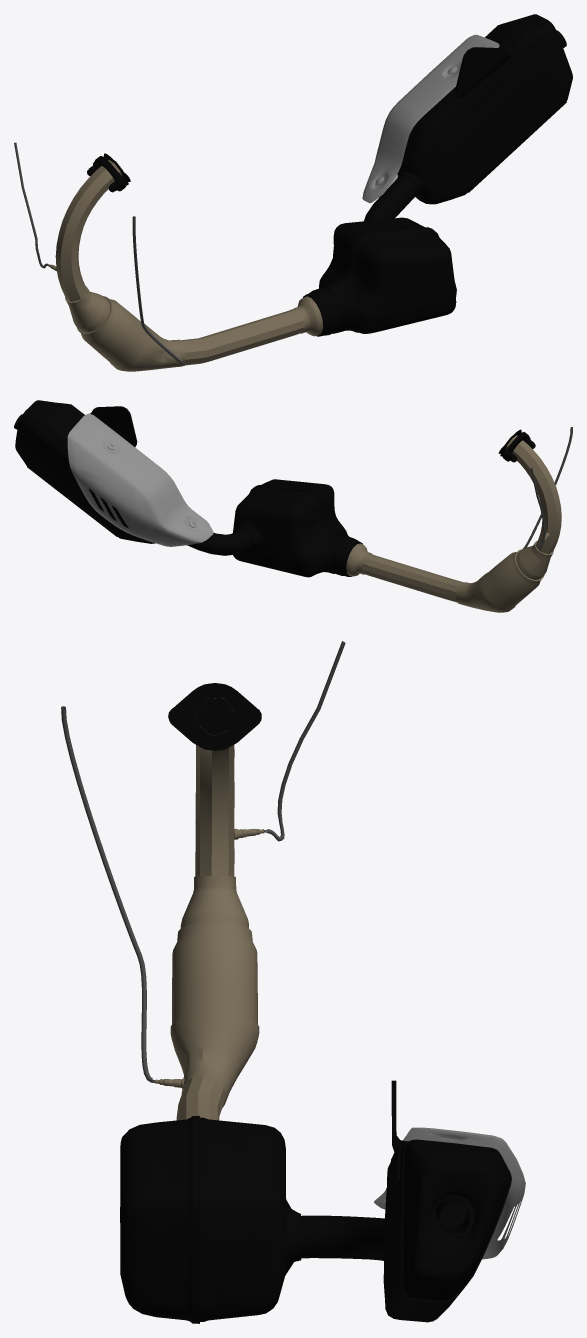
Rendered from exhaust.fbx.
The picture shows the model from 3 angles, top to bottom: view 1: azimuth 30°, elevation 25°; view 2: azimuth 150°, elevation 25°; view 3: azimuth 270°, elevation 25°; orthographic projection. The views are drawn at different scales.
Visible parts, largest first — view 1: exhaust; view 2: exhaust; view 3: exhaust.
Part boxes in pixels (x1,y1,x2,y2): exhaust: [14, 14, 572, 371]; exhaust: [14, 400, 572, 612]; exhaust: [61, 641, 525, 1323].
Size of the model in its own units: 302 by 112 by 124.
